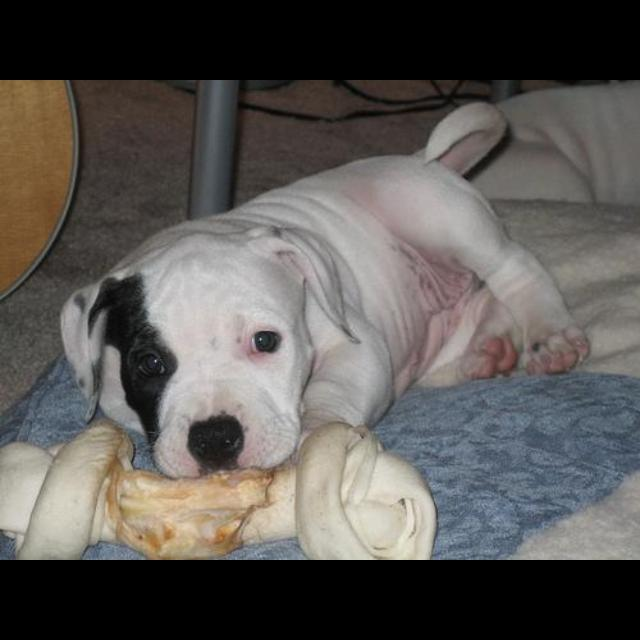amstaff: (59, 100, 592, 480)
